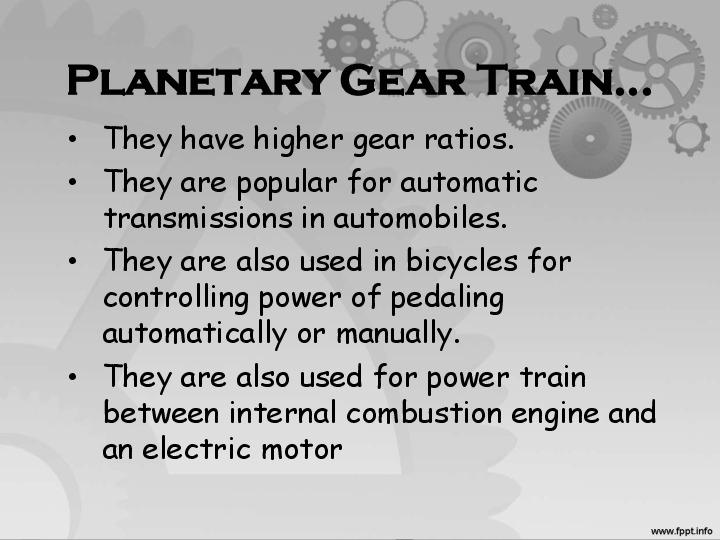paragraph: (57, 117, 689, 488)
title: (55, 47, 663, 119)
